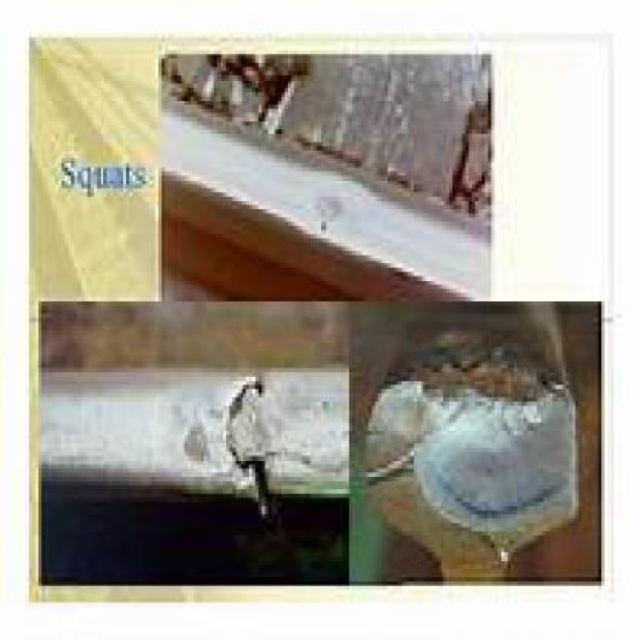defective: (366, 308, 596, 588), (258, 160, 397, 296), (205, 342, 298, 542)
